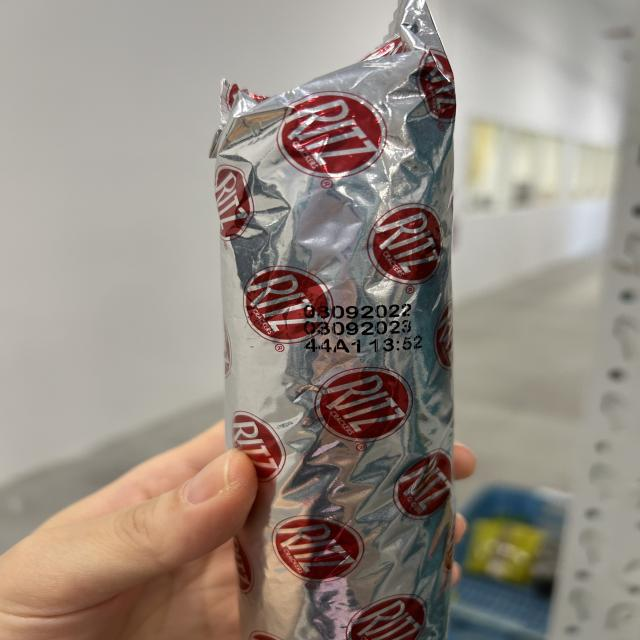object_name: (218, 85, 440, 640)
